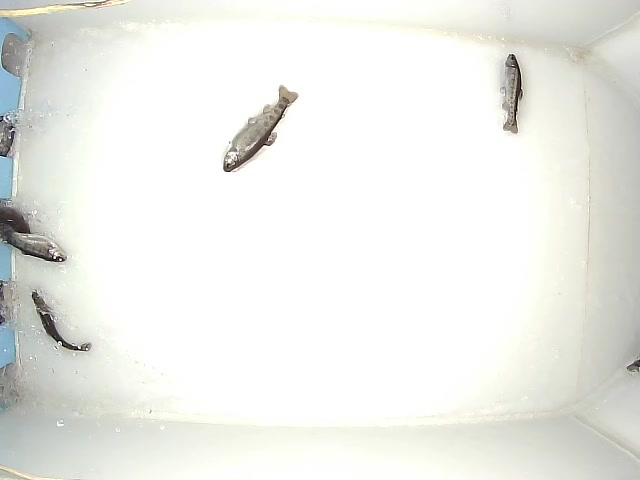fish: (222, 84, 300, 173), (32, 290, 93, 353), (1, 228, 70, 263), (500, 52, 524, 136)
